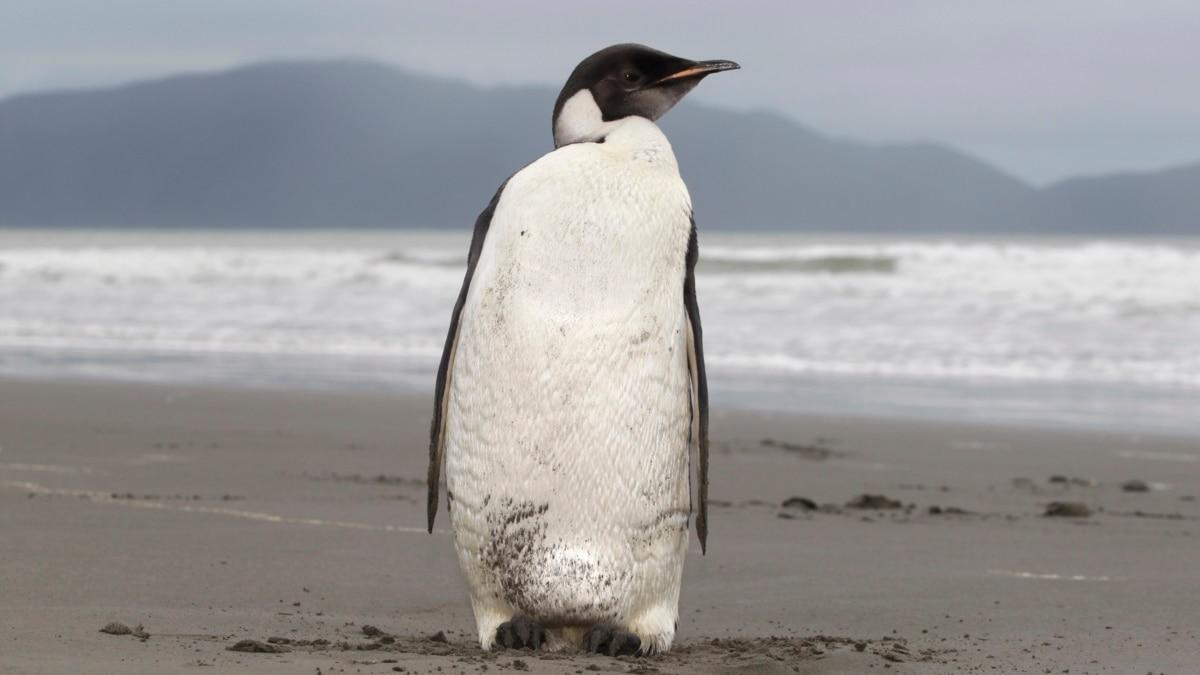Penguin: (427, 45, 736, 655)
